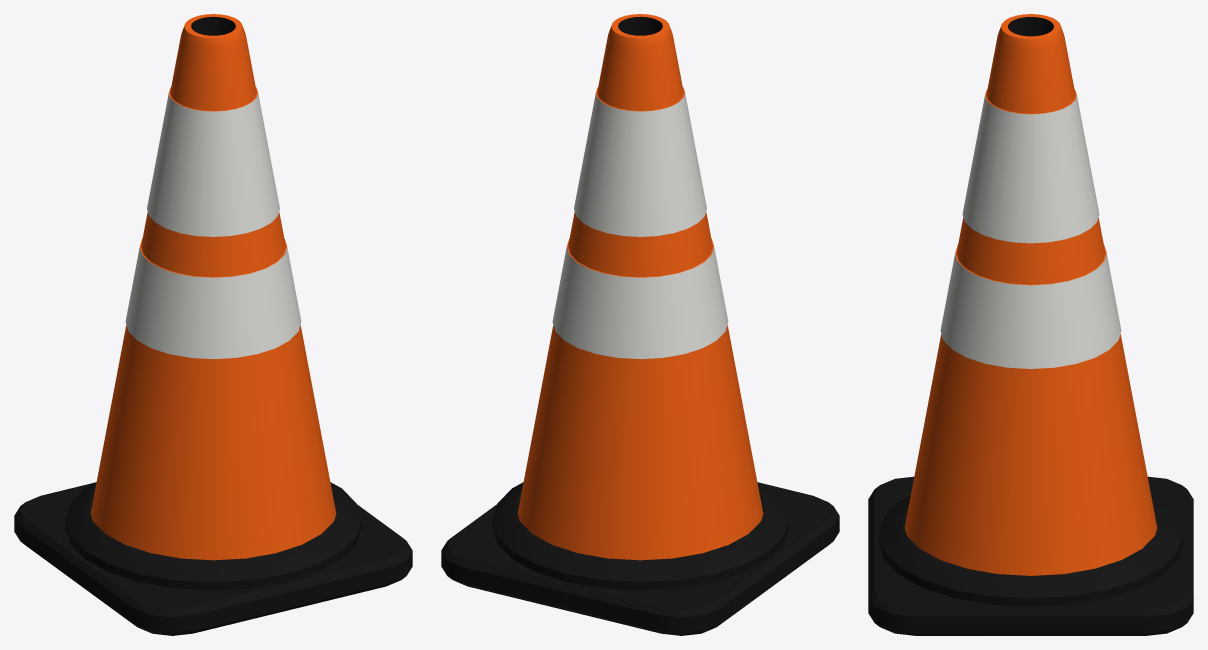
3 renders of one model, left to right at view 1: azimuth 30°, elevation 25°; view 2: azimuth 150°, elevation 25°; view 3: azimuth 270°, elevation 25°, orthographic. The views are drawn at different scales.
Parts seen in each view (by area): view 1: cone; view 2: cone; view 3: cone.
Part boxes in pixels (x1,y1,x2,y2): cone: [14, 14, 412, 635]; cone: [441, 14, 839, 635]; cone: [868, 14, 1193, 635].
Size of the model in its own units: 0.38 by 0.7 by 0.38.
